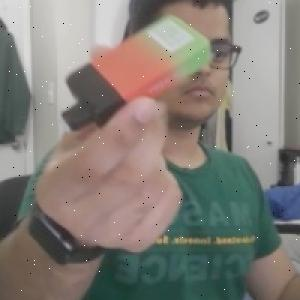Swift-E-Ciggirate: (59, 11, 212, 134)
